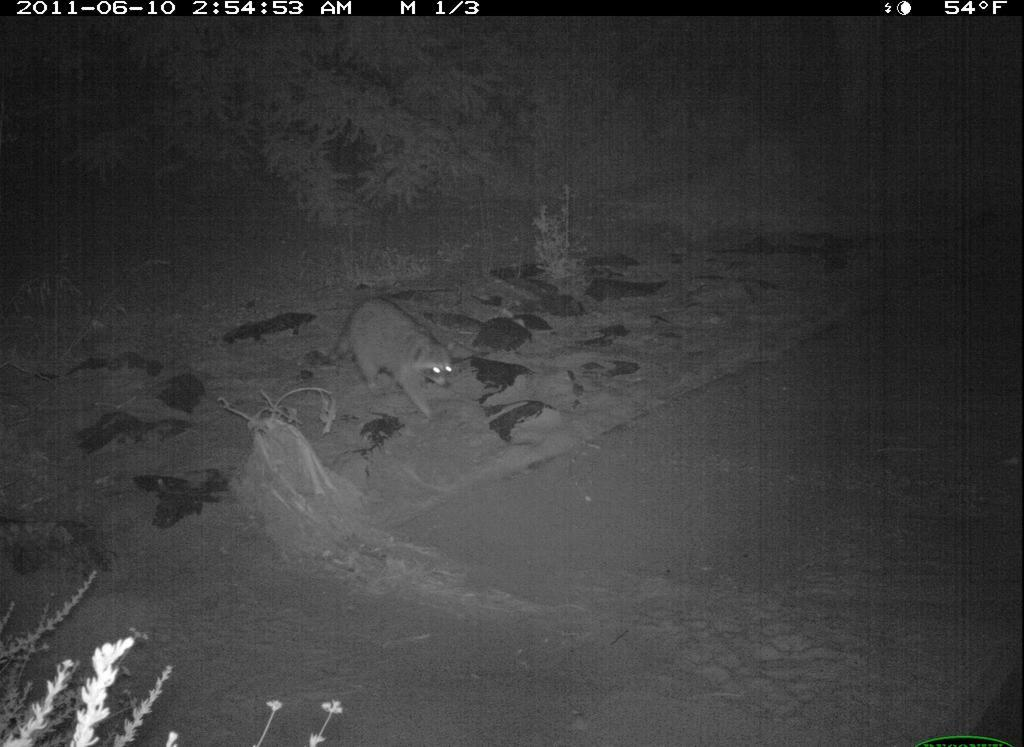raccoon: (323, 286, 461, 425)
